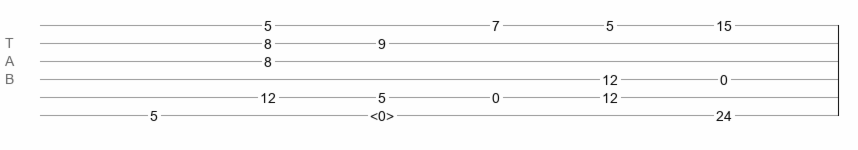0: (492, 90, 500, 100), (720, 72, 728, 82)
12: (260, 90, 276, 100), (602, 72, 618, 82), (602, 90, 618, 100)
15: (716, 18, 732, 28)
24: (716, 108, 732, 118)
5: (150, 108, 158, 118), (264, 18, 272, 28), (378, 90, 386, 100), (606, 18, 614, 28)
7: (492, 18, 500, 28)
8: (264, 36, 272, 46), (264, 54, 272, 64)
9: (378, 36, 386, 46)
harmonic: (370, 108, 394, 118)
